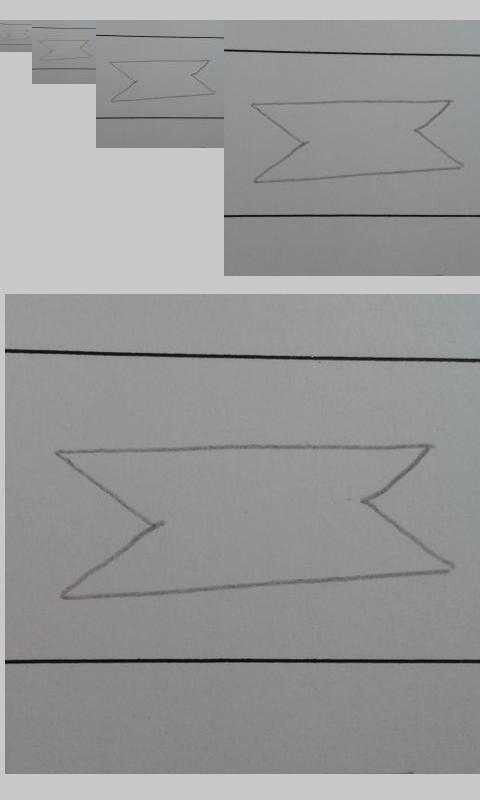edit_text: (48, 442, 454, 600), (249, 99, 464, 184), (108, 58, 218, 102), (38, 39, 91, 62), (4, 29, 30, 41)
